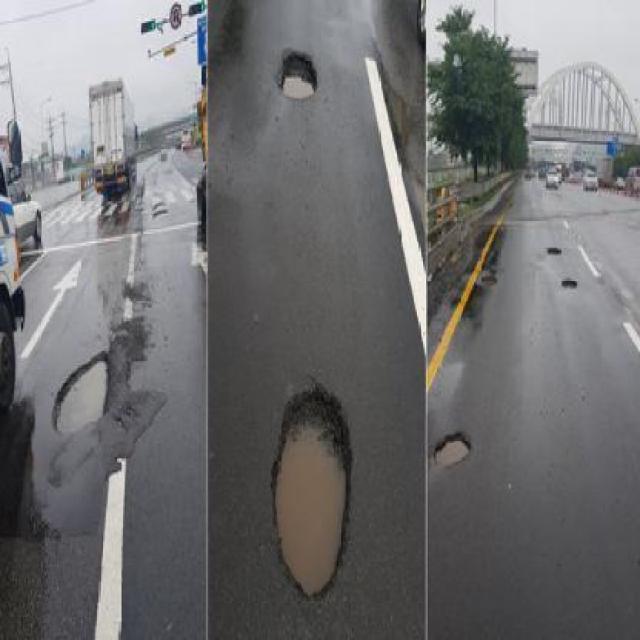Pothole: (264, 376, 361, 601), (51, 345, 115, 440), (275, 45, 323, 104), (431, 426, 475, 472), (558, 273, 577, 292), (545, 241, 564, 259)
